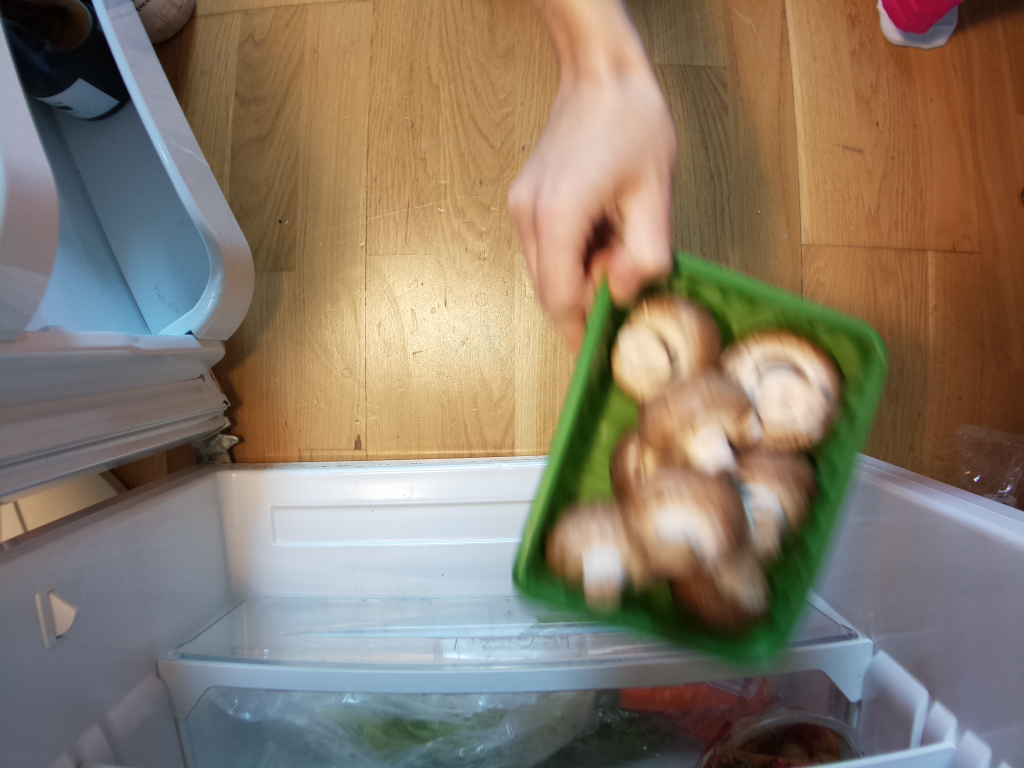mushrooms: (520, 246, 885, 653)
